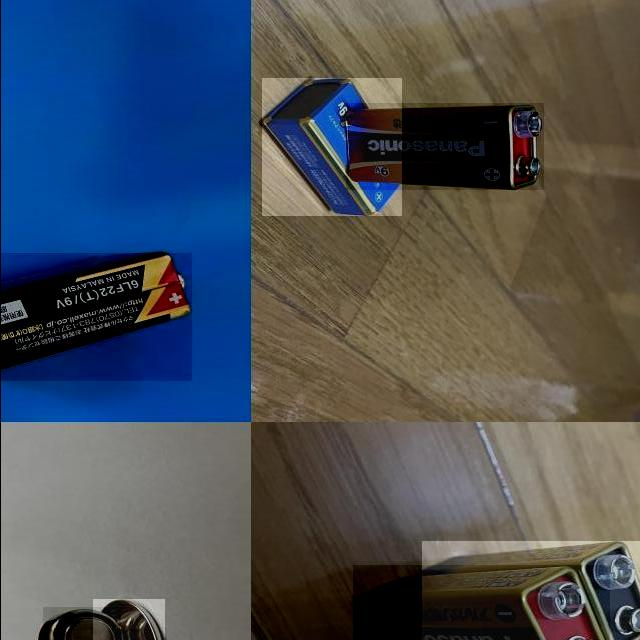9V: (0, 252, 191, 381), (421, 541, 640, 640), (352, 564, 610, 640), (260, 78, 400, 216), (344, 103, 542, 190)
